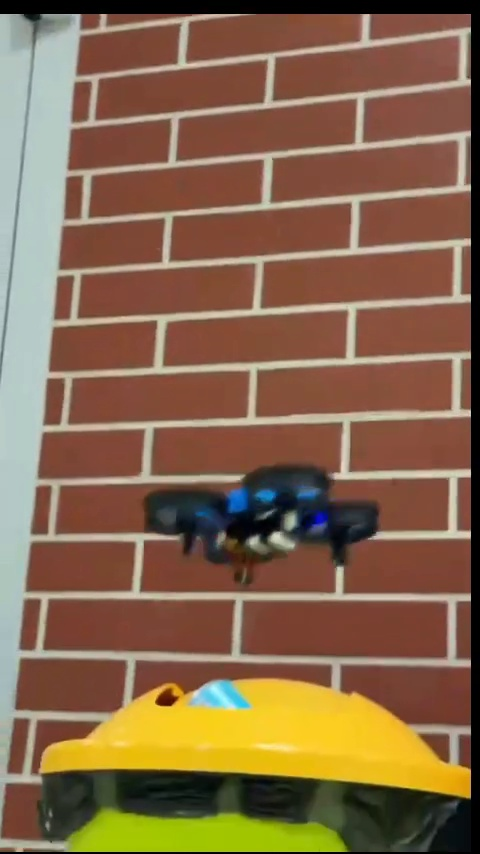drone: (144, 470, 378, 580)
